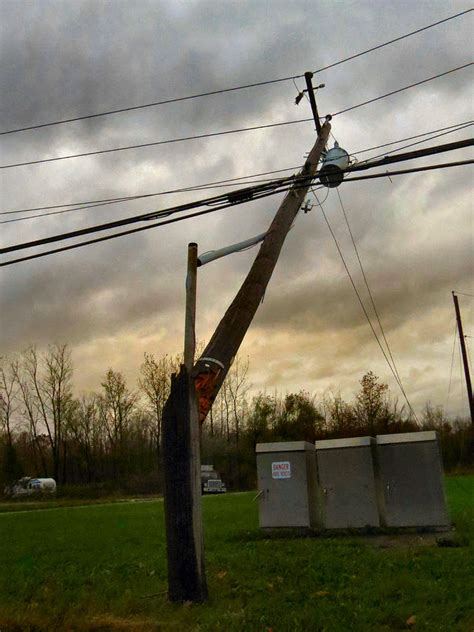pole: (151, 63, 363, 614)
